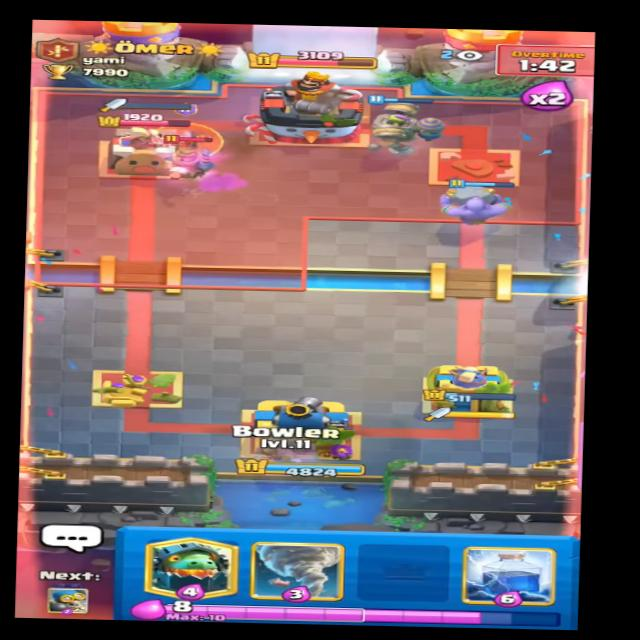evo-wizard: (161, 116, 226, 157)
prince: (155, 137, 216, 188)
